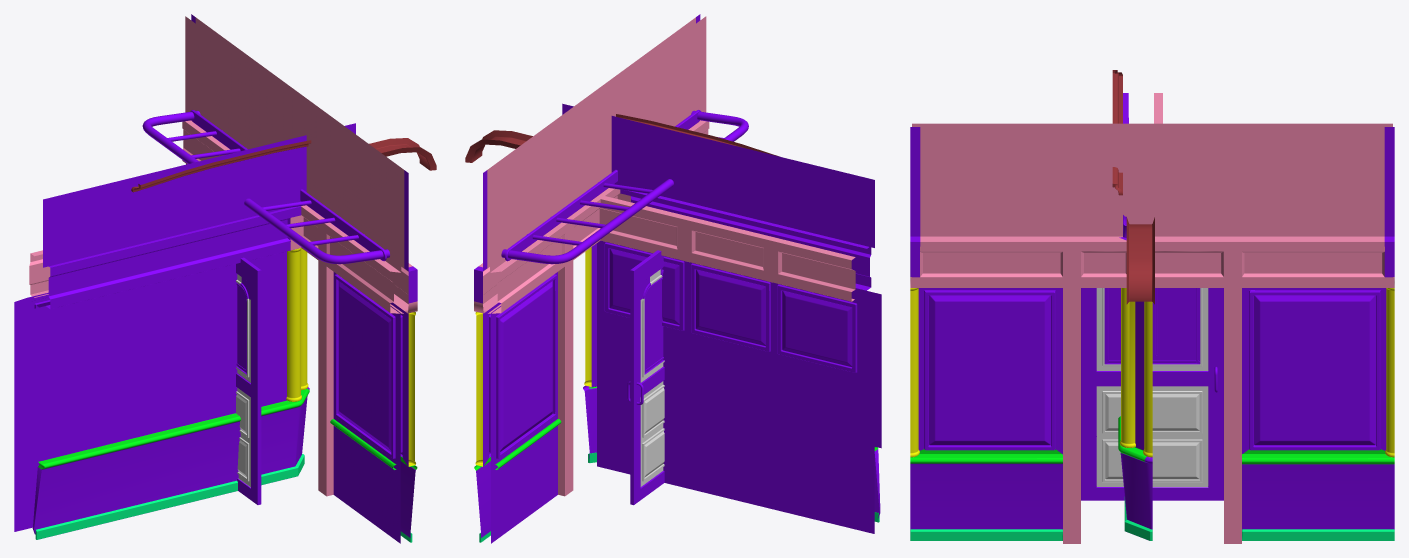
The model's file is SM_CompartmentSegments.fbx.
3 views of the same model, side by side, from view 1: azimuth 30°, elevation 25°; view 2: azimuth 150°, elevation 25°; view 3: azimuth 270°, elevation 25° (orthographic). The views are drawn at different scales.
Parts seen in each view (by area): view 1: SM_CompartmentEndWall, SM_CompartmentHallwayWall, SM_CompartmentSlidingDoor, SM_CompartmentDividerWall; view 2: SM_CompartmentDividerWall, SM_CompartmentHallwayWall, SM_CompartmentEndWall, SM_CompartmentSlidingDoor; view 3: SM_CompartmentHallwayWall, SM_CompartmentSlidingDoor, SM_CompartmentEndWall.
Part boxes in pixels (bbox=[...]): SM_CompartmentEndWall: bbox=[30, 123, 436, 539]; SM_CompartmentHallwayWall: bbox=[142, 14, 417, 543]; SM_CompartmentSlidingDoor: bbox=[236, 257, 261, 504]; SM_CompartmentDividerWall: bbox=[14, 250, 50, 531]; SM_CompartmentDividerWall: bbox=[597, 194, 874, 533]; SM_CompartmentHallwayWall: bbox=[474, 14, 748, 543]; SM_CompartmentEndWall: bbox=[465, 103, 881, 522]; SM_CompartmentSlidingDoor: bbox=[627, 250, 664, 505]; SM_CompartmentHallwayWall: bbox=[910, 123, 1394, 543]; SM_CompartmentSlidingDoor: bbox=[1081, 288, 1223, 500]; SM_CompartmentEndWall: bbox=[1112, 70, 1154, 540].
Size of the model in its own units: 4.35 by 3.76 by 4.
